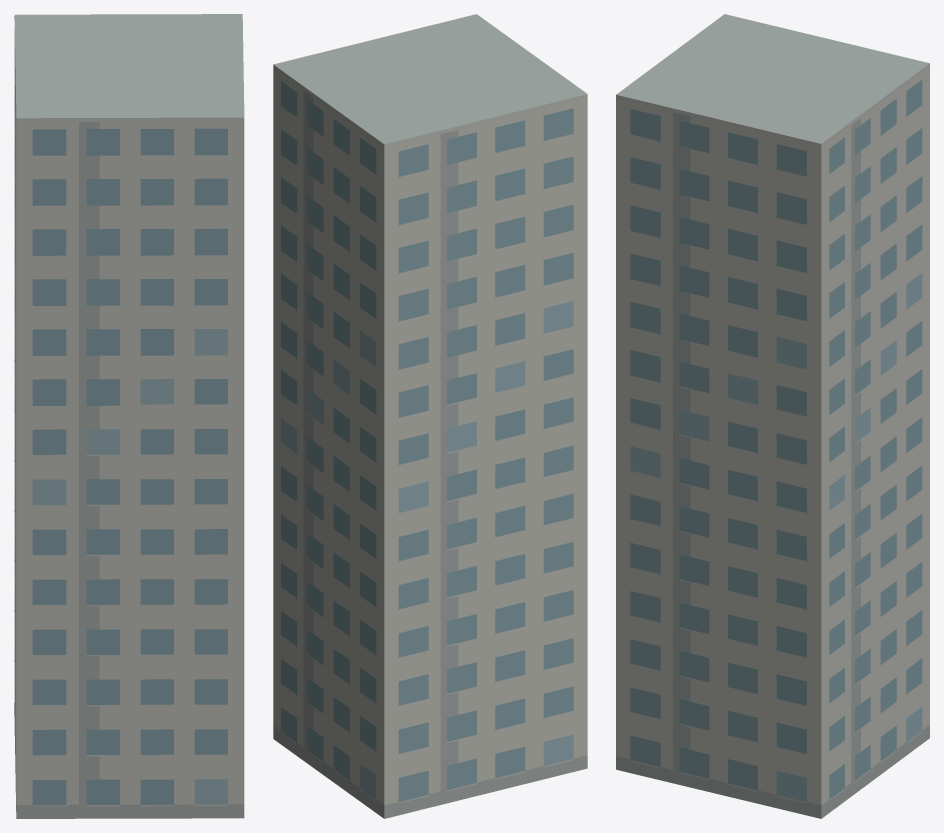
The model's file is residential-2c54a71d-d5c1-466b-9929-877e5bc12e5e.glb.
The picture shows the model from 3 angles, left to right: view 1: azimuth 30°, elevation 25°; view 2: azimuth 150°, elevation 25°; view 3: azimuth 270°, elevation 25°; orthographic projection. The views are drawn at different scales.
Visible parts, largest first — view 1: residential-2c54a71d-d5c1-466b-9929-877e5bc12e5e.tmp; view 2: residential-2c54a71d-d5c1-466b-9929-877e5bc12e5e.tmp; view 3: residential-2c54a71d-d5c1-466b-9929-877e5bc12e5e.tmp.
Part boxes in pixels (<box>): residential-2c54a71d-d5c1-466b-9929-877e5bc12e5e.tmp: <box>14,14,244,818</box>; residential-2c54a71d-d5c1-466b-9929-877e5bc12e5e.tmp: <box>273,14,587,818</box>; residential-2c54a71d-d5c1-466b-9929-877e5bc12e5e.tmp: <box>616,14,929,818</box>.
Size of the model in its own units: 18.18 by 44 by 18.55.
